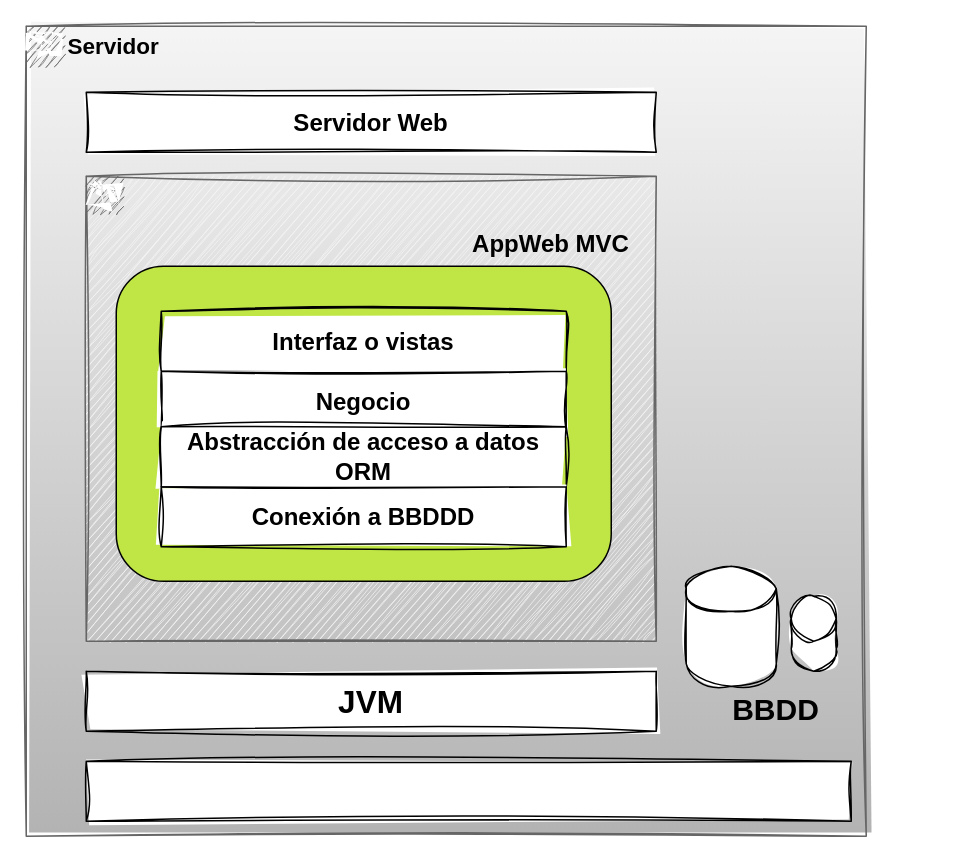
Some shapes in this 968 by 863 pixel diagram are drawn without their labels. Each missing label, with the box of its shape:
Servidor de aplicaciones: (85, 175, 656, 641)
SO: (85, 760, 851, 821)
